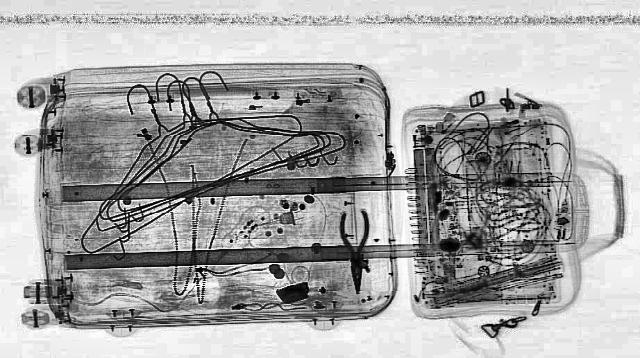Pliers: (336, 210, 374, 294)
